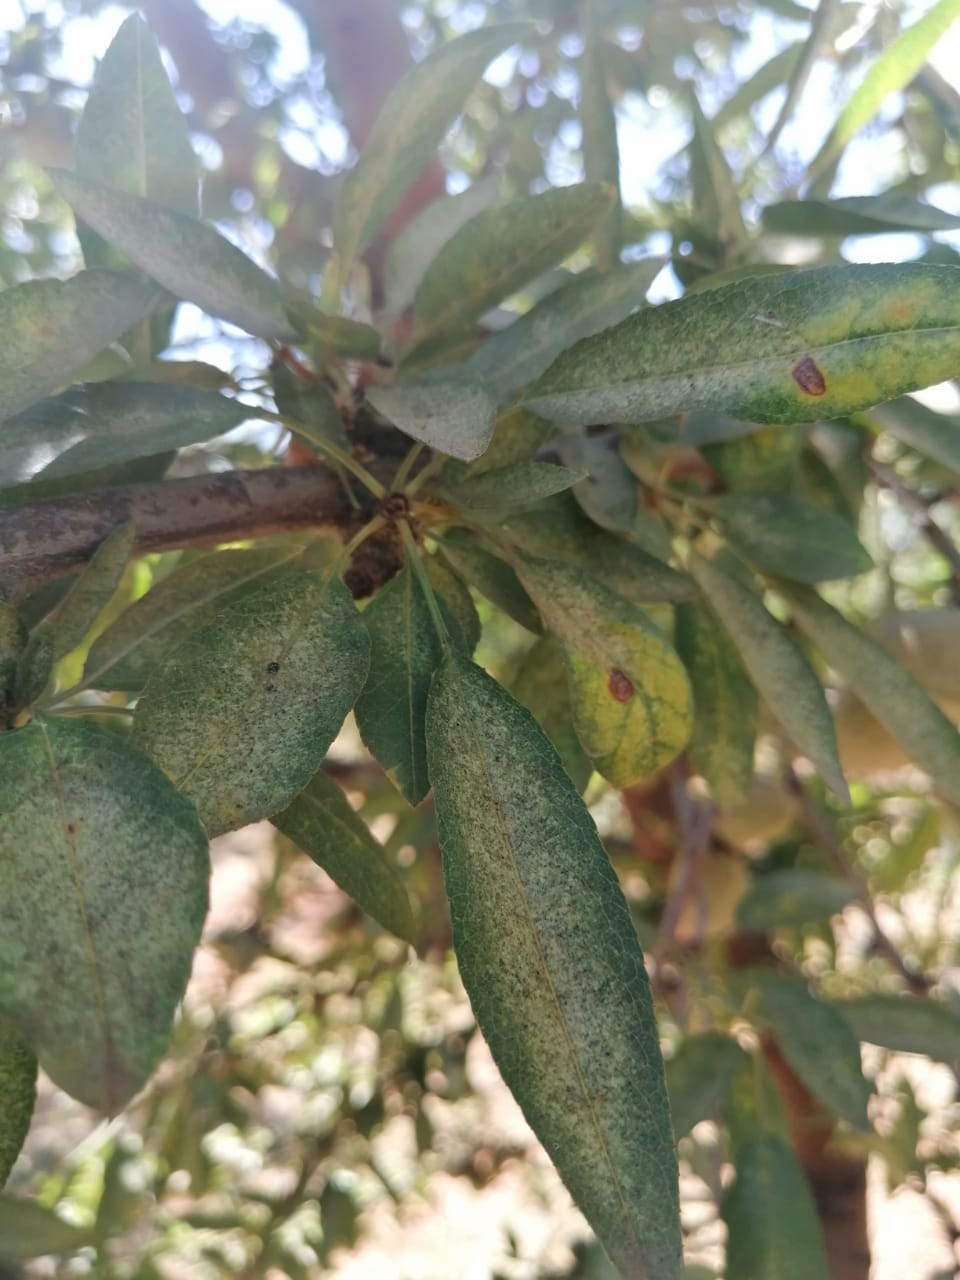acariens: (429, 649, 687, 1280), (1, 708, 210, 1117), (519, 260, 960, 431), (128, 568, 372, 842)
